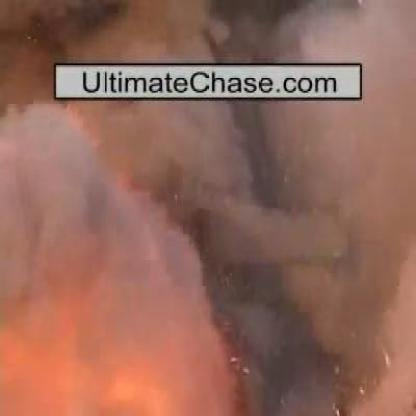-: (12, 102, 386, 396), (29, 0, 349, 62)
